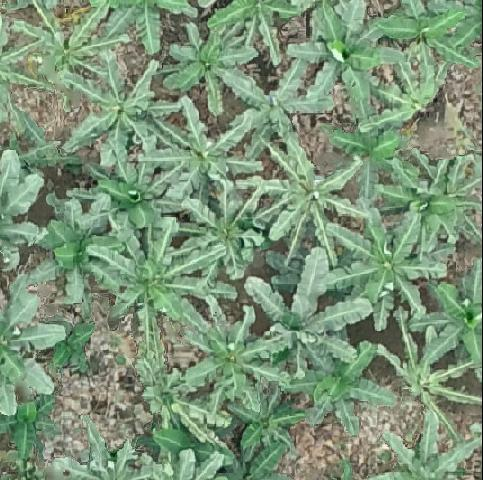Banana-plant: (321, 204, 451, 326), (242, 251, 371, 368), (95, 219, 225, 332), (256, 142, 367, 251), (294, 0, 393, 117), (180, 300, 289, 405), (55, 61, 166, 163), (148, 95, 257, 195), (284, 342, 399, 429), (224, 61, 333, 151), (161, 19, 257, 118), (373, 0, 483, 85), (14, 2, 119, 89), (0, 287, 67, 416), (384, 153, 483, 237), (39, 200, 117, 306), (412, 257, 483, 369), (178, 187, 262, 281), (99, 157, 183, 233), (232, 389, 305, 447)
